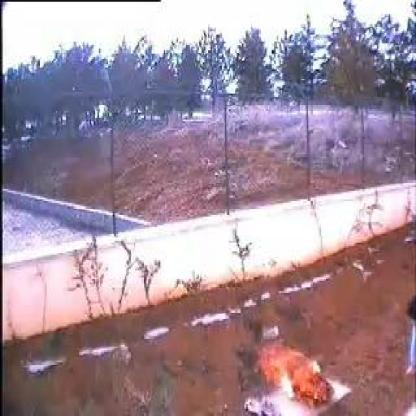foggia-v2-map80-epoch100 - v1 4323: (261, 349, 328, 389)
